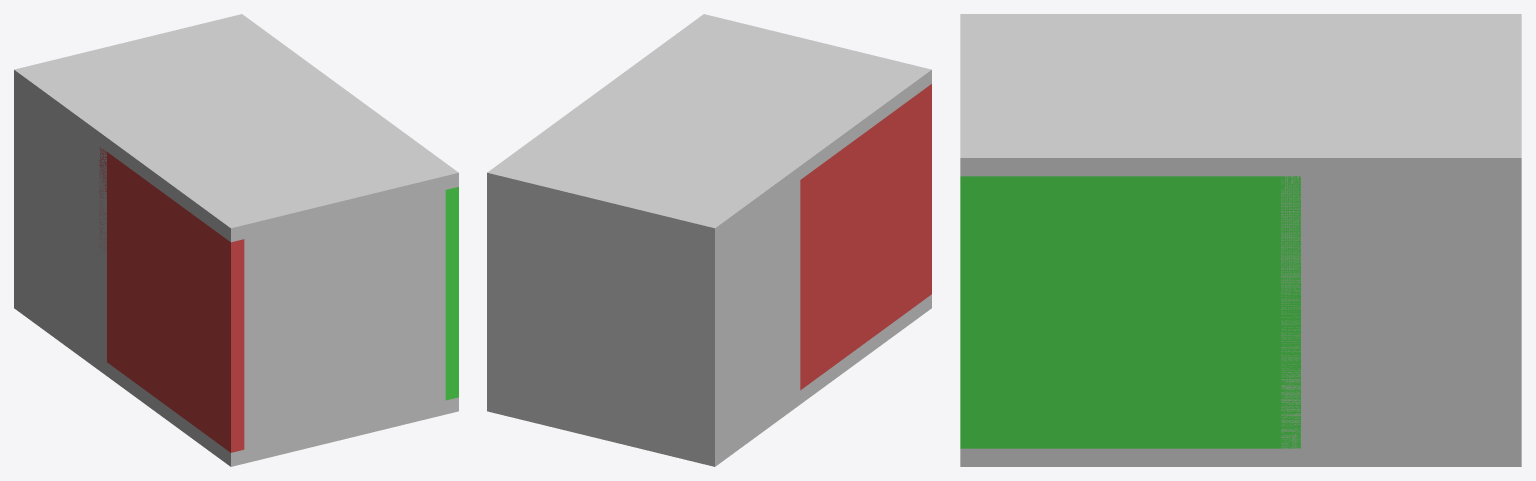
Rendered from gi_dynamic.glb.
3 views of the same model, side by side, from view 1: azimuth 30°, elevation 25°; view 2: azimuth 150°, elevation 25°; view 3: azimuth 270°, elevation 25° (orthographic). The views are drawn at different scales.
Visible parts, largest first — view 1: Cornell Wall +Z, Cornell Ceiling, Cornell Wall -X, Side Room Ceiling, Side Room Wall -X, Cornell Floor, Cornell Wall +X, Side Room Floor; view 2: Side Room Wall -Z, Cornell Ceiling, Cornell Wall -X, Side Room Ceiling, Side Room Wall -X, Side Room Floor, Side Room Wall +X, Cornell Floor; view 3: Cornell Wall +X, Side Room Wall +X, Cornell Ceiling, Side Room Ceiling, Cornell Floor, Side Room Floor.
Boxes of the visible parts, <box> form: Cornell Wall +Z: <box>244,190,445,449</box>; Cornell Ceiling: <box>99,76,458,242</box>; Cornell Wall -X: <box>99,147,244,452</box>; Side Room Ceiling: <box>14,14,334,150</box>; Side Room Wall -X: <box>14,84,106,361</box>; Cornell Floor: <box>107,362,458,466</box>; Cornell Wall +X: <box>445,187,458,400</box>; Side Room Floor: <box>14,294,106,375</box>; Side Room Wall -Z: <box>500,190,701,449</box>; Cornell Ceiling: <box>572,14,931,179</box>; Cornell Wall -X: <box>800,84,931,390</box>; Side Room Ceiling: <box>487,105,807,242</box>; Side Room Wall -X: <box>701,180,800,452</box>; Side Room Floor: <box>487,391,800,466</box>; Side Room Wall +X: <box>487,187,500,400</box>; Cornell Floor: <box>800,294,931,404</box>; Cornell Wall +X: <box>960,176,1300,448</box>; Side Room Wall +X: <box>1281,176,1521,448</box>; Cornell Ceiling: <box>960,14,1300,176</box>; Side Room Ceiling: <box>1281,14,1521,176</box>; Cornell Floor: <box>960,448,1300,466</box>; Side Room Floor: <box>1281,448,1521,466</box>.
Size of the model in its own units: 3.4 by 3.4 by 5.6.
